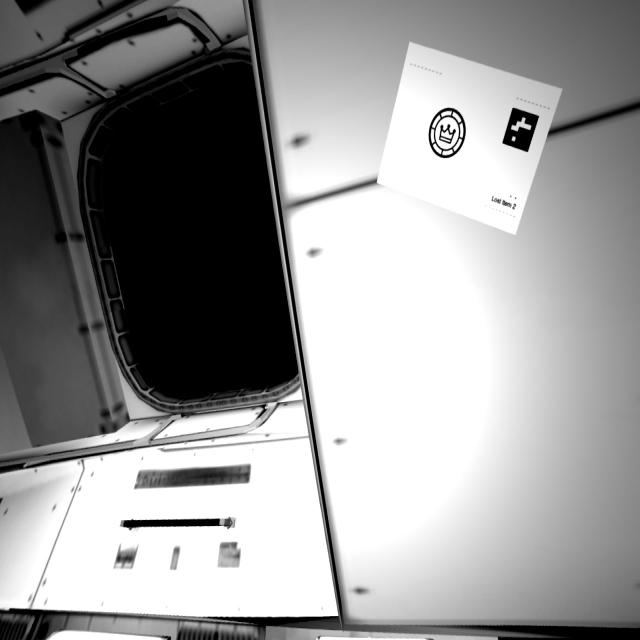coin: (424, 104, 476, 165)
